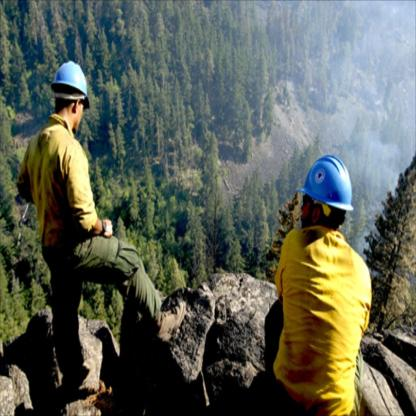Helmet: (297, 160, 355, 241), (50, 56, 93, 112)
